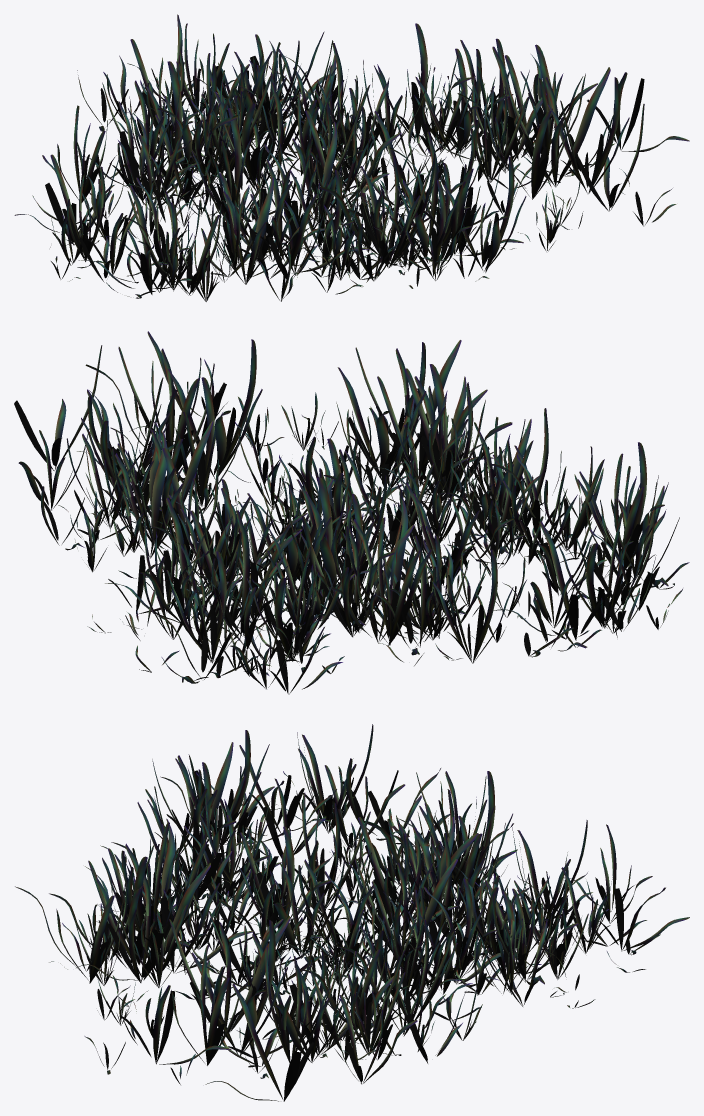
File: grass1.fbx
3 views of the same model, one above another, from view 1: azimuth 30°, elevation 25°; view 2: azimuth 150°, elevation 25°; view 3: azimuth 270°, elevation 25° (orthographic). The views are drawn at different scales.
Parts seen in each view (by area): view 1: GS Dryland grass medium; view 2: GS Dryland grass medium; view 3: GS Dryland grass medium.
Boxes of the visible parts, <box> form: GS Dryland grass medium: <box>14,14,689,301</box>; GS Dryland grass medium: <box>14,331,689,694</box>; GS Dryland grass medium: <box>15,724,689,1101</box>.
Bounding box in the file's own units: 50.85 × 9.11 × 46.68.
